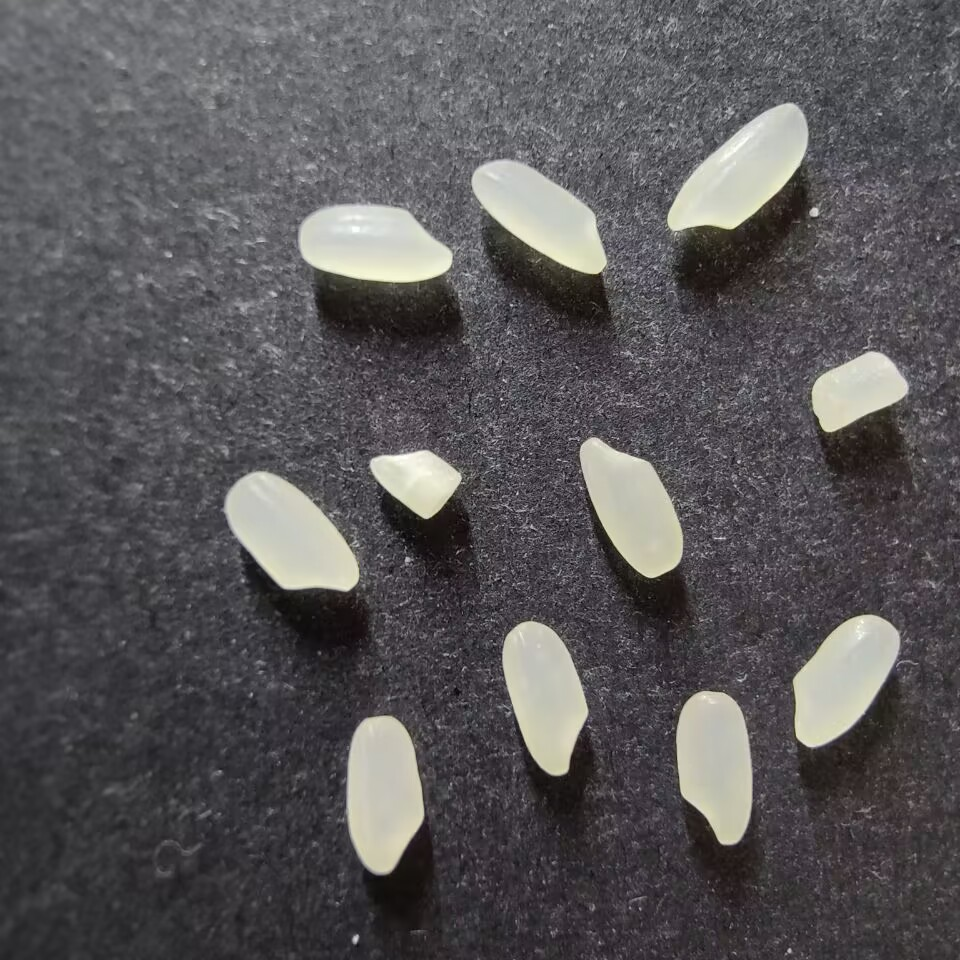broken: (811, 351, 908, 433), (368, 449, 462, 519)
rice: (665, 103, 809, 232), (224, 470, 360, 592), (470, 159, 608, 275), (579, 436, 685, 578), (792, 613, 900, 747), (501, 620, 589, 776), (345, 714, 425, 875), (298, 204, 452, 282), (675, 690, 752, 846)
